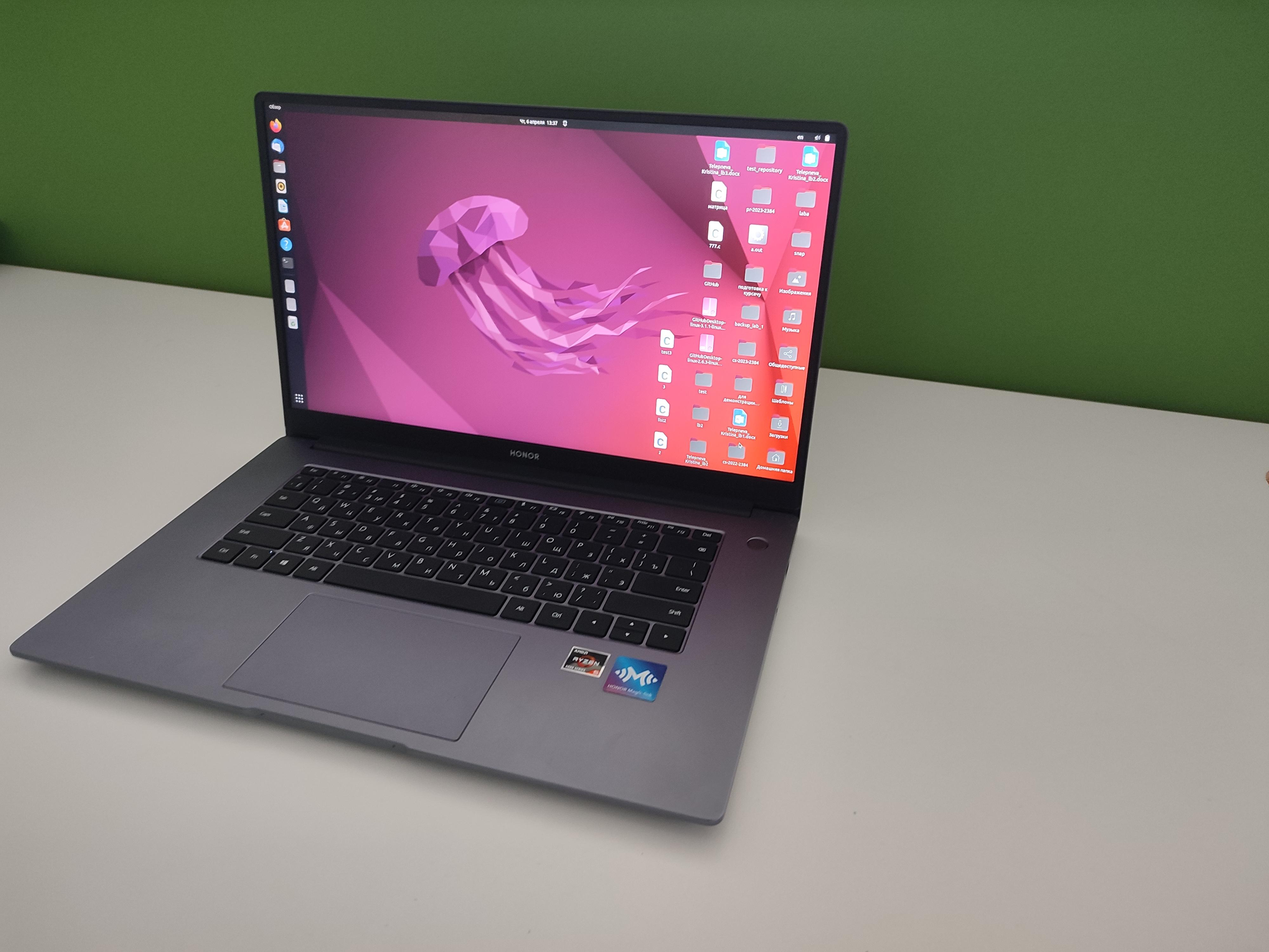monitor: (251, 84, 852, 505)
